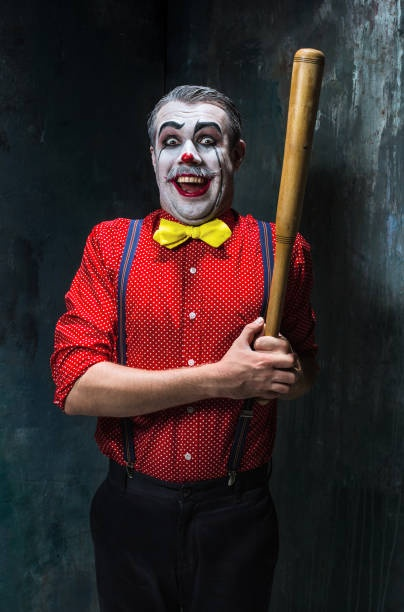bita: (260, 48, 330, 402)
